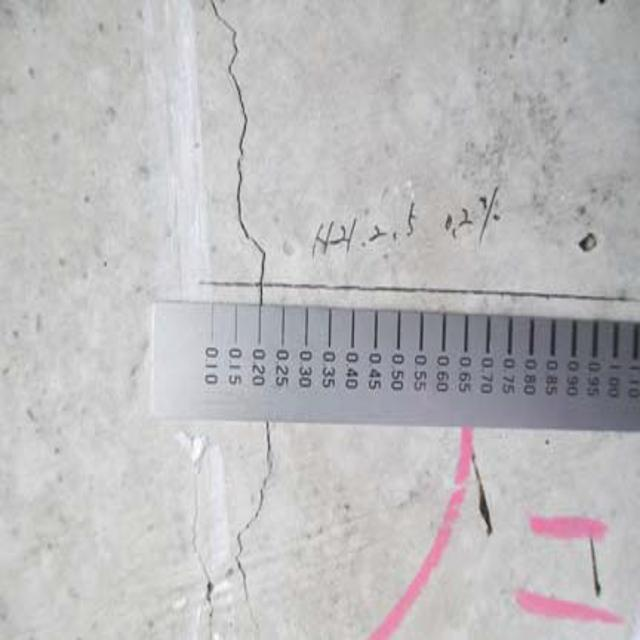crack: (183, 427, 298, 640), (202, 6, 282, 300)
